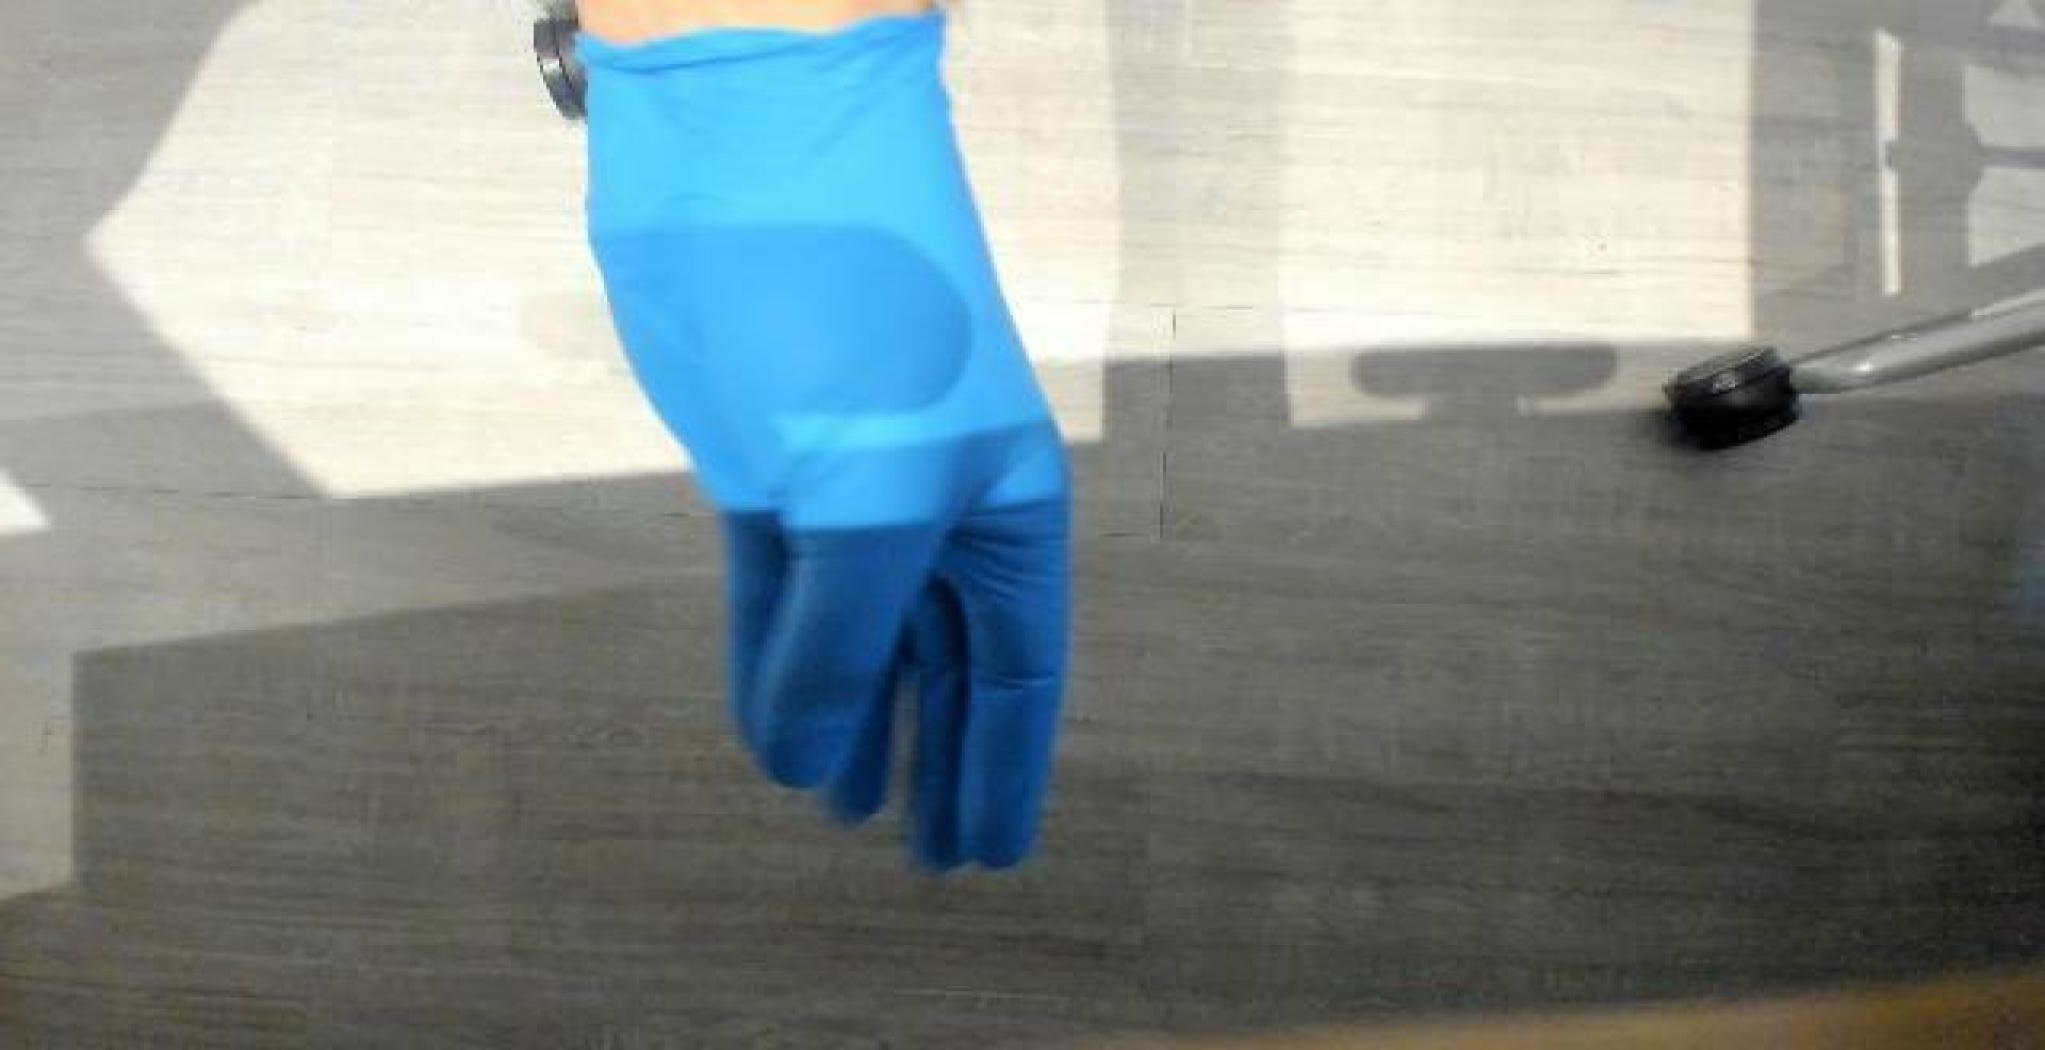gloved: (350, 0, 1278, 853)
